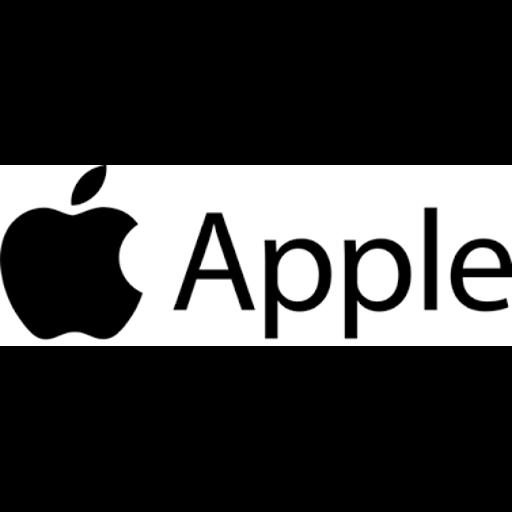Apple: (0, 165, 512, 346)
